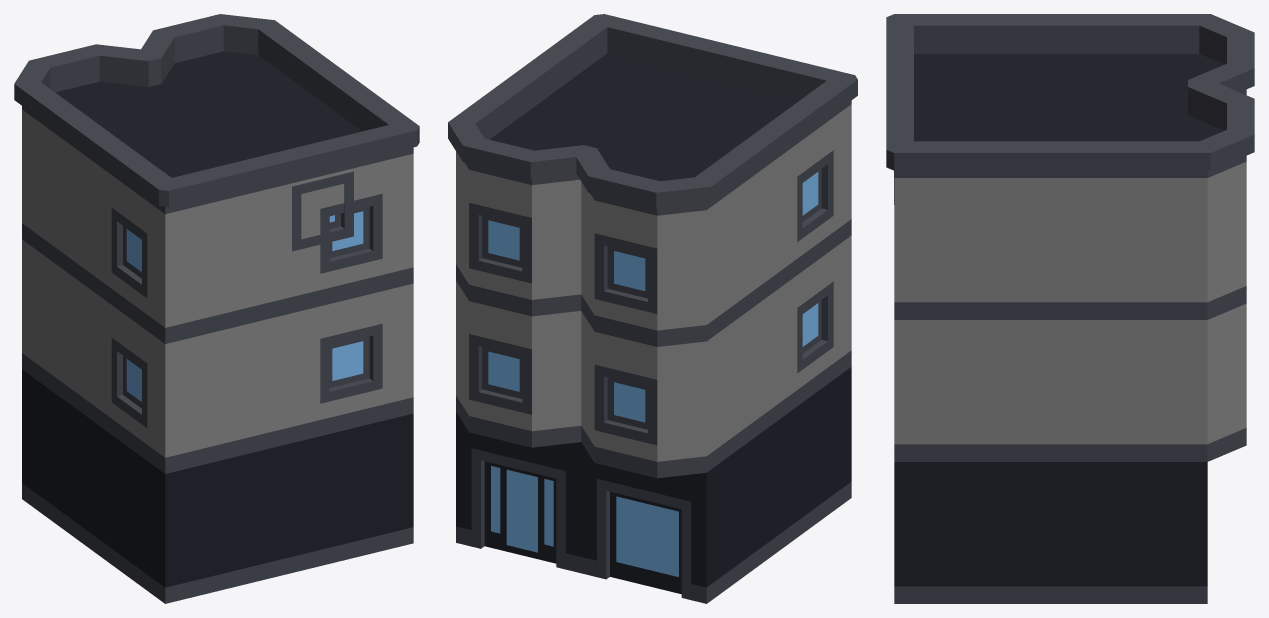
The model's file is variant_1.obj.
3 renders of one model, left to right at view 1: azimuth 30°, elevation 25°; view 2: azimuth 150°, elevation 25°; view 3: azimuth 270°, elevation 25°, orthographic. The views are drawn at different scales.
Visible parts, largest first — view 1: Building, Building_copy, Window_copy; view 2: Building; view 3: Building.
Boxes of the visible parts, x1,y1,x2,y2 form: Building: [14, 14, 419, 603]; Building_copy: [167, 155, 411, 273]; Window_copy: [292, 171, 353, 251]; Building: [448, 14, 857, 603]; Building: [886, 14, 1254, 603].
Size of the model in its own units: 0.84 by 1.28 by 0.94.
